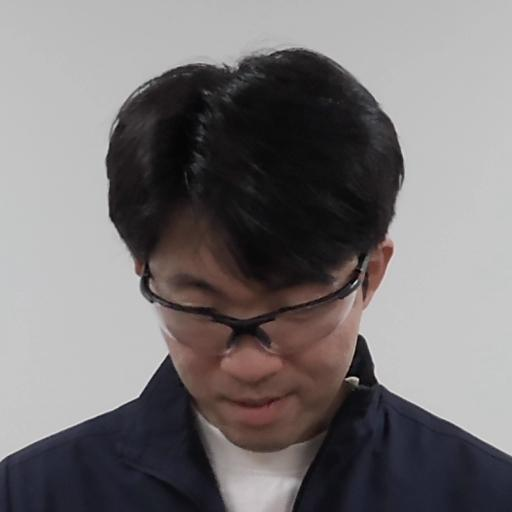glasses: (108, 57, 398, 450)
